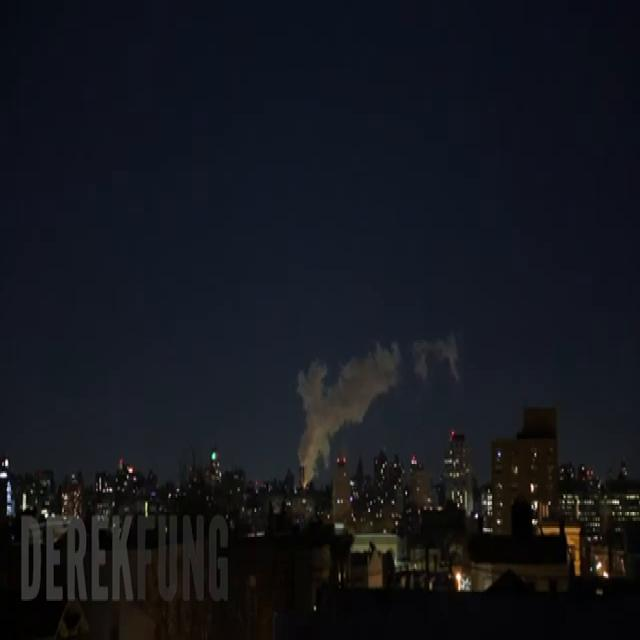smoke: (297, 341, 400, 480)
